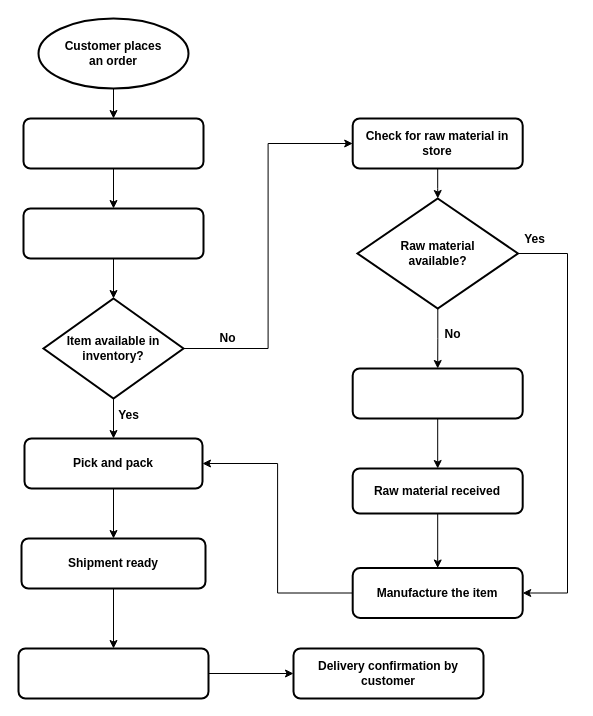
Image size: 593x716. Some labels were removed from this diagram. The centre of each missing label's shape, as x and y in pixels:
Dispatch: point 113,673
Inventory check: point 113,233
Order process and confirmation: point 113,143
Order raw material: point 437,393
